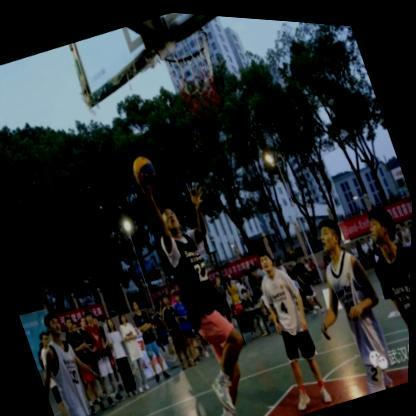basketball: (128, 148, 163, 191)
rim: (150, 16, 235, 124)
